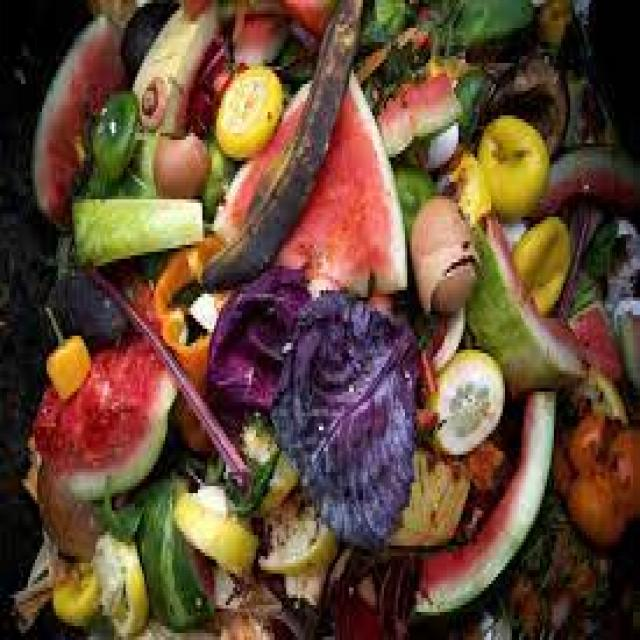Food -Biodegradable-: (26, 0, 640, 640)
